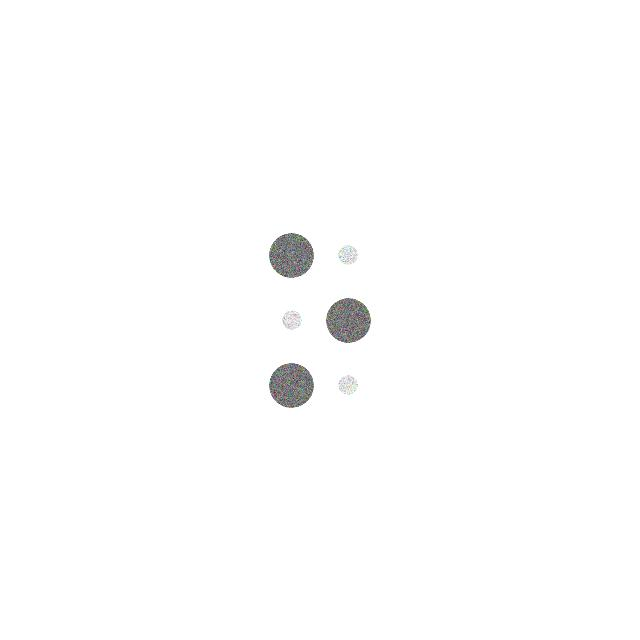O: (265, 228, 375, 412)
